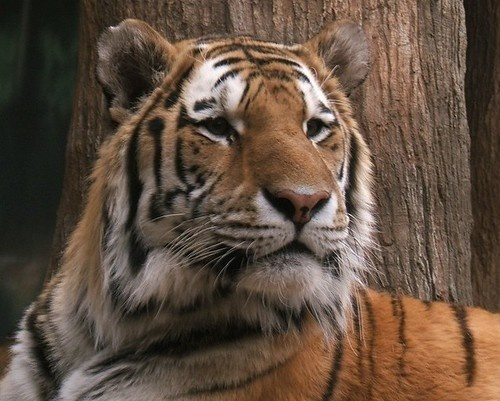tigre: (5, 18, 500, 400)
